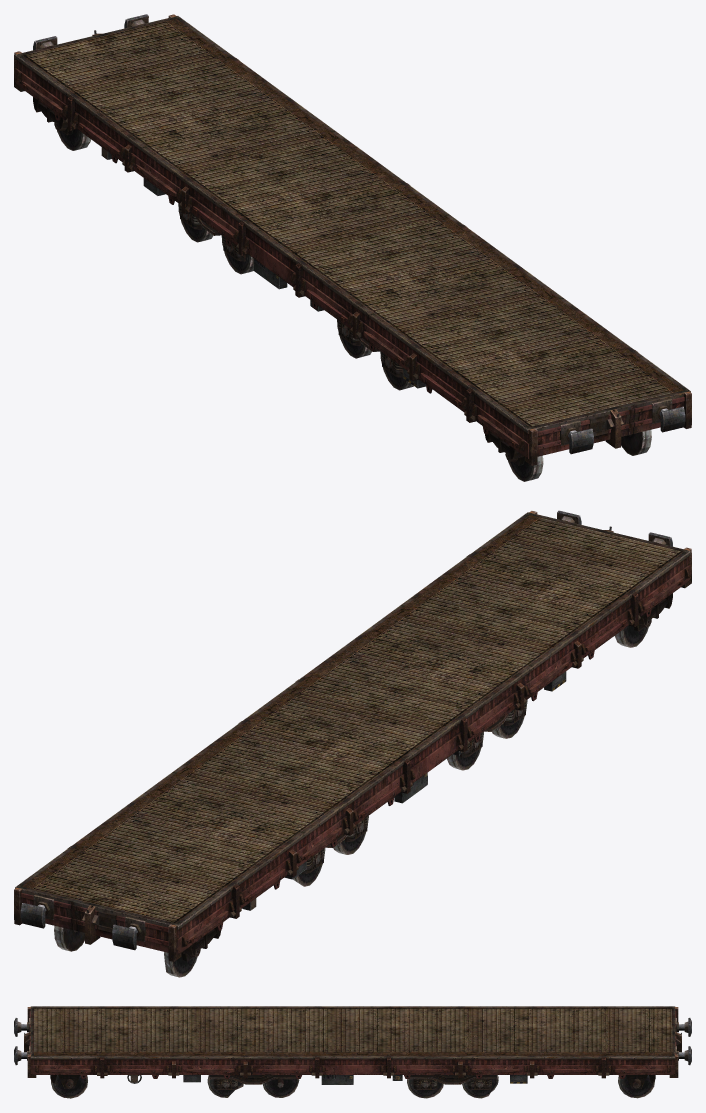
The model's file is p3dm.ru_Wagon platforma.obj.
The picture shows the model from 3 angles, top to bottom: view 1: azimuth 30°, elevation 25°; view 2: azimuth 150°, elevation 25°; view 3: azimuth 270°, elevation 25°; orthographic projection. The views are drawn at different scales.
Visible parts, largest first — view 1: DrawCall_0056; view 2: DrawCall_0056; view 3: DrawCall_0056.
Boxes of the visible parts, x1,y1,x2,y2 form: DrawCall_0056: (14, 14, 691, 481); DrawCall_0056: (14, 510, 691, 977); DrawCall_0056: (14, 1006, 691, 1098).
Size of the model in its own units: 5.81 by 2.55 by 31.81.
